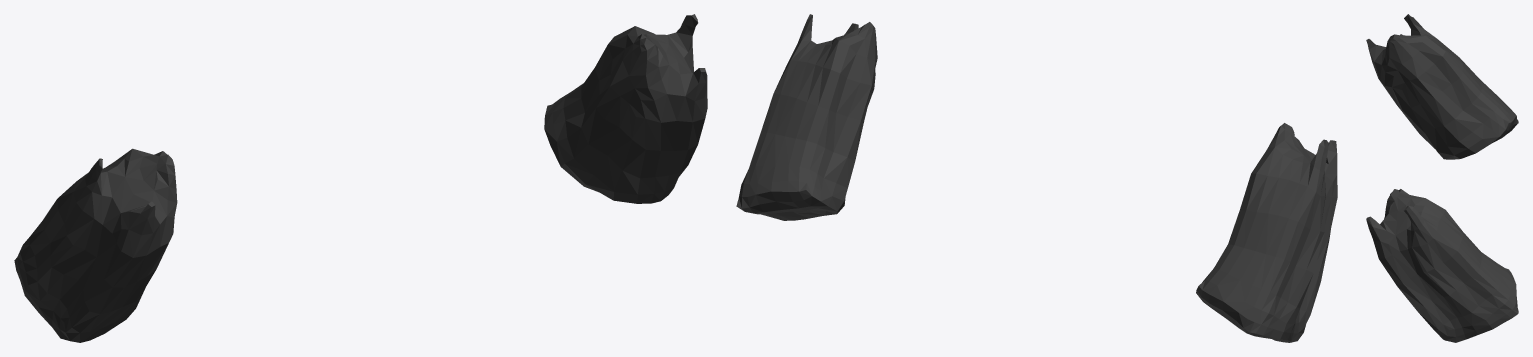
The model's file is R_max_PM3_LO.glb.
3 views of the same model, side by side, from view 1: azimuth 30°, elevation 25°; view 2: azimuth 150°, elevation 25°; view 3: azimuth 270°, elevation 25° (orthographic). The views are drawn at different scales.
Visible parts, largest first — view 1: R_max_PM3_LO; view 2: R_max_PM3_LO; view 3: R_max_PM3_LO.
Part boxes in pixels (x1=…): R_max_PM3_LO: x1=14, y1=14, x2=707, y2=342; R_max_PM3_LO: x1=736, y1=14, x2=1337, y2=342; R_max_PM3_LO: x1=1366, y1=14, x2=1518, y2=342.
Bounding box in the file's own units: 0.00131 × 0.000418 × 0.000417.
Materials: 1 (1 with a texture image).
